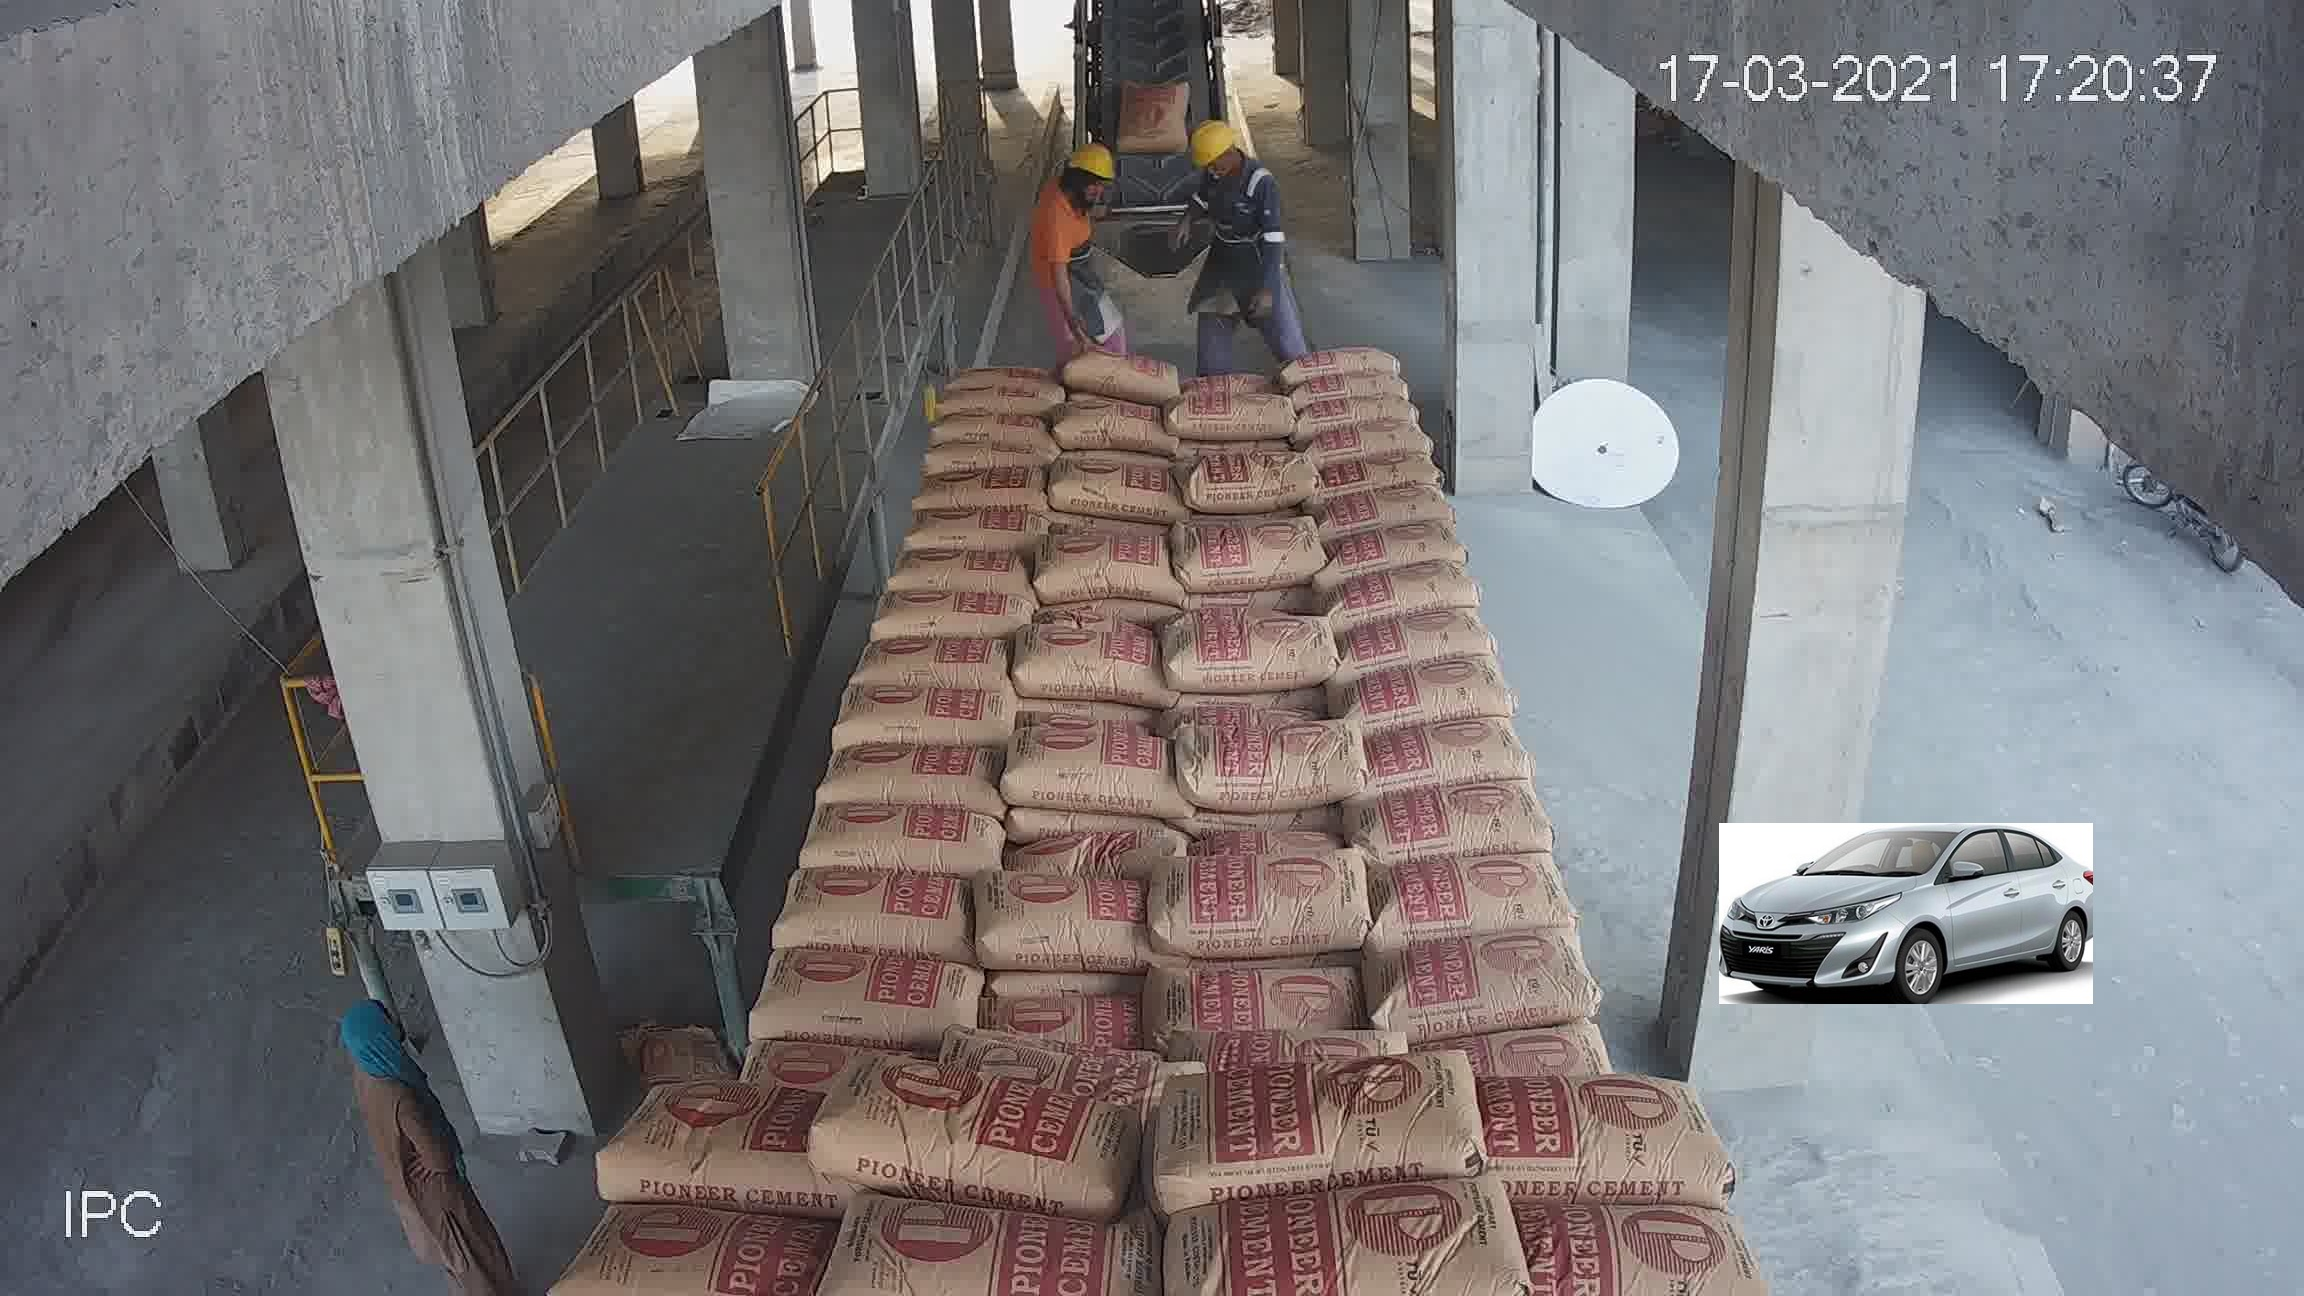bag: (937, 595, 1154, 718), (1078, 209, 1211, 354)
bag_h: (1106, 1152, 1554, 1296), (1147, 1033, 1492, 1211), (820, 1063, 1161, 1196), (1165, 946, 1451, 1092), (1136, 829, 1419, 957), (855, 945, 1130, 1070), (638, 954, 859, 1108), (589, 1074, 832, 1211), (1437, 949, 1674, 1084), (1481, 1079, 1728, 1196), (673, 853, 911, 972), (886, 842, 1144, 948), (810, 1207, 1149, 1287), (1518, 1201, 1780, 1294), (1407, 855, 1628, 961), (557, 1211, 831, 1280), (1154, 761, 1353, 850), (1381, 782, 1551, 873), (779, 794, 916, 870), (815, 680, 948, 753), (1400, 715, 1540, 782), (1393, 661, 1500, 736), (805, 748, 919, 812), (1393, 604, 1484, 673), (853, 623, 930, 695), (1320, 312, 1389, 364), (1353, 347, 1408, 388)
belt: (1005, 30, 1328, 603)
